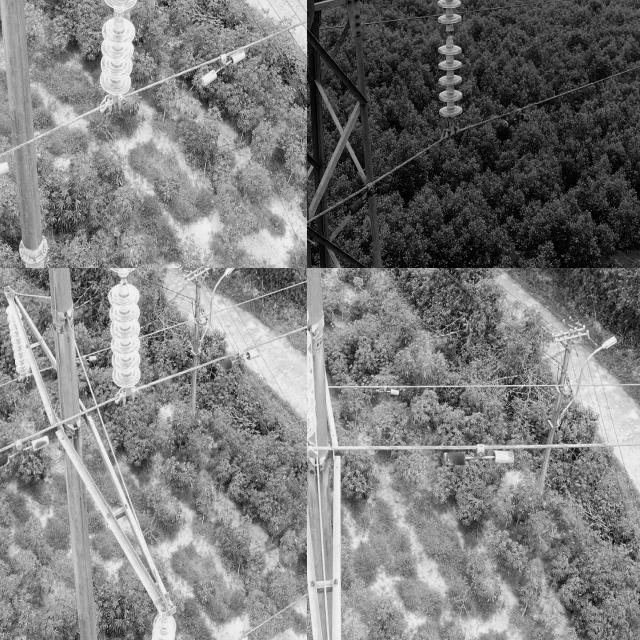杆塔: (0, 268, 186, 640), (307, 0, 467, 268), (307, 268, 366, 640)
正常电缆: (307, 53, 640, 234), (0, 5, 307, 171)
正常绝缘子: (95, 268, 153, 402), (95, 0, 143, 116), (434, 0, 465, 139), (5, 288, 23, 384), (146, 608, 177, 640)
绝缘子破损: (112, 10, 125, 24), (444, 28, 455, 42), (117, 274, 130, 285)
